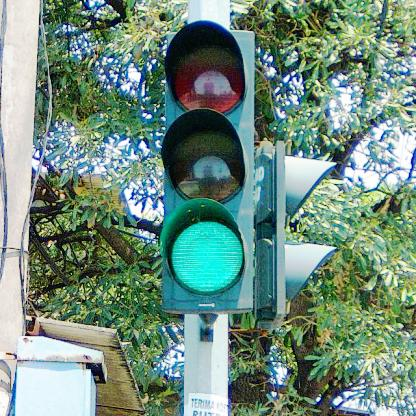Traffic Light -Green-: (159, 29, 255, 314)
